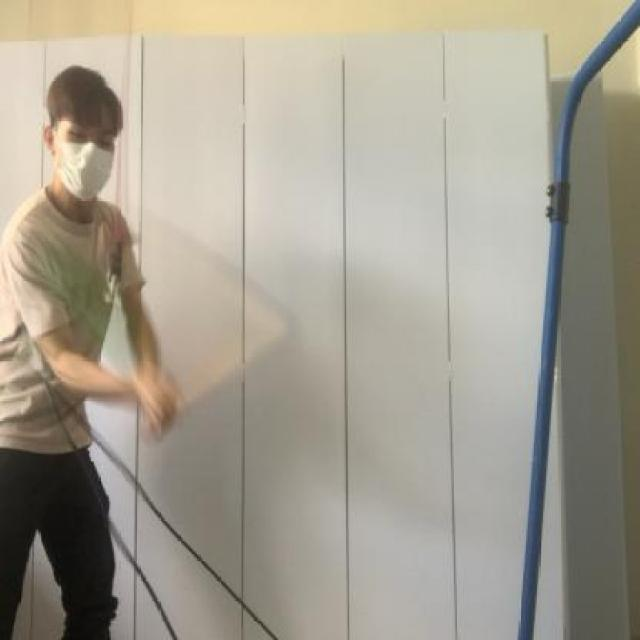baseball: (28, 232, 186, 388)
